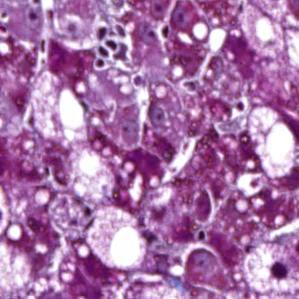ballooning: (245, 104, 297, 182), (242, 238, 296, 296)
